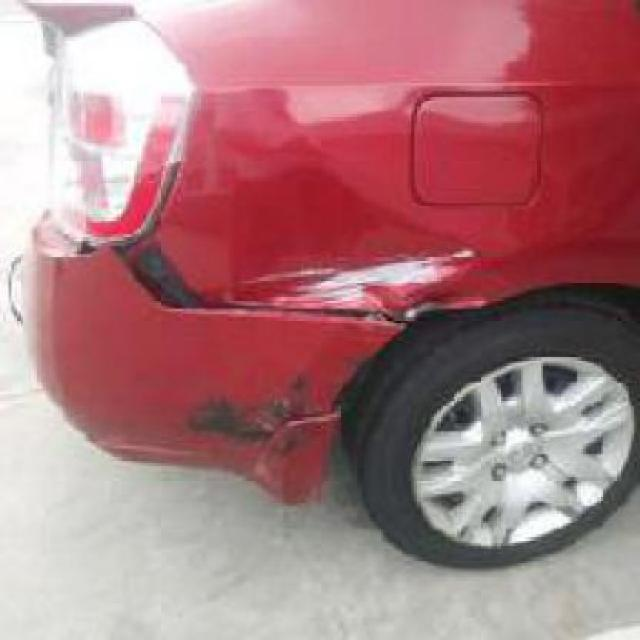damaged-rear-bumper: (14, 240, 388, 526)
dent-or-scratch: (179, 80, 461, 314)
